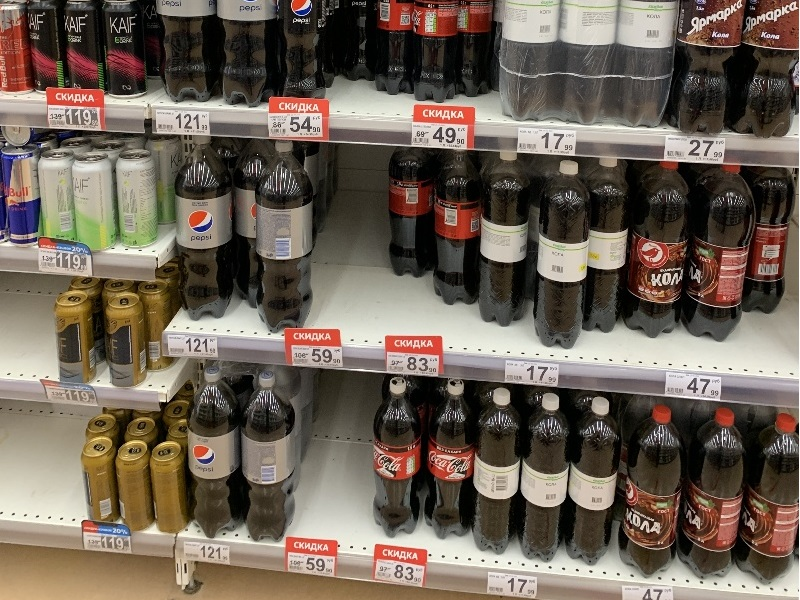lemonade: (619, 159, 707, 345), (669, 409, 755, 580), (253, 139, 318, 348), (611, 404, 689, 577), (555, 394, 631, 568), (532, 159, 598, 359), (728, 403, 799, 584), (472, 146, 538, 335), (184, 368, 253, 545), (175, 134, 237, 327), (415, 378, 485, 545), (463, 387, 530, 556), (694, 159, 752, 351), (235, 373, 297, 547), (365, 377, 426, 541), (515, 393, 574, 561)
